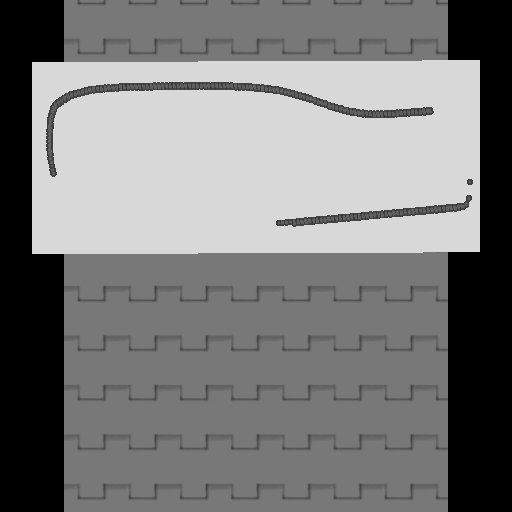Defect: (51, 174, 278, 233)
